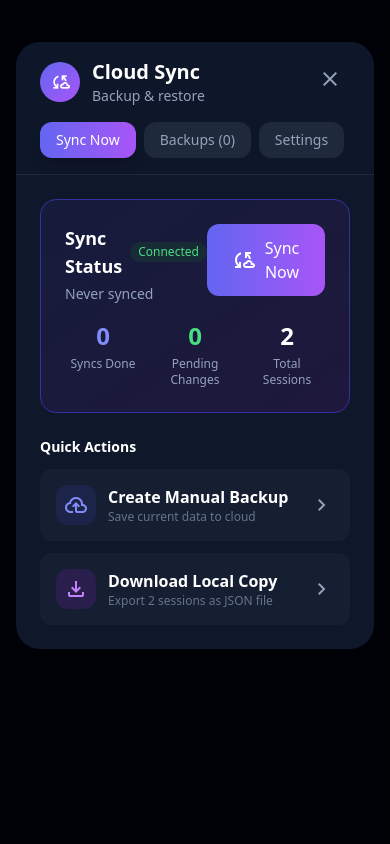
Test: CloudSyncModal › Tab Navigation › should switch to Backups tab when clicked
This screenshot has width=390, height=844.
What coordinates should you click on to do the following:
click the button "Backups (0)"
I would click on:
 (197, 140)
Its box is [144,122,251,158].
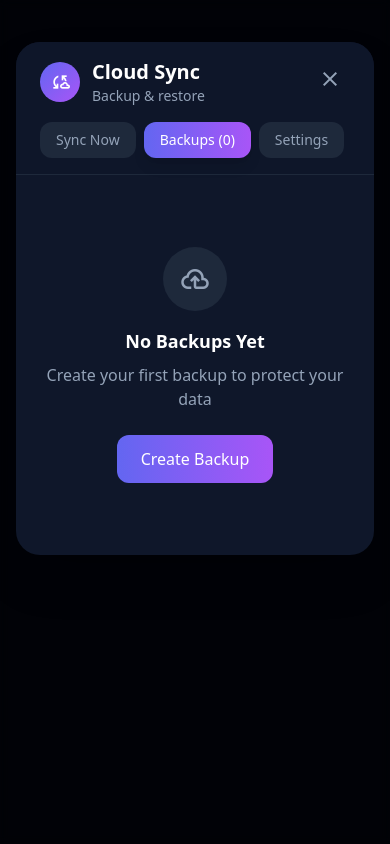
Check: the heading "No Backups Yet" is shown, box [125,329,265,353]
